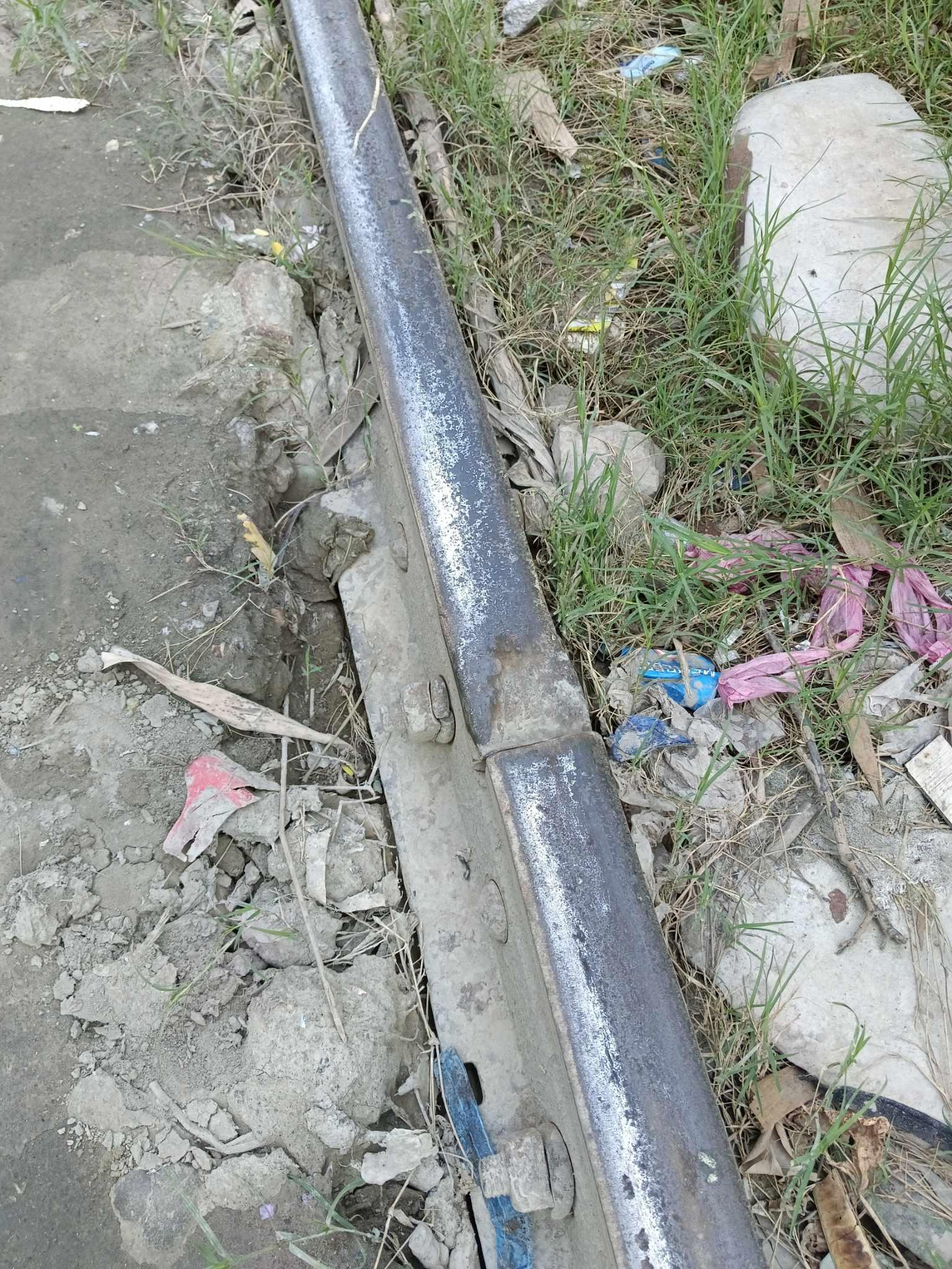railway-gap: (419, 630, 650, 851)
